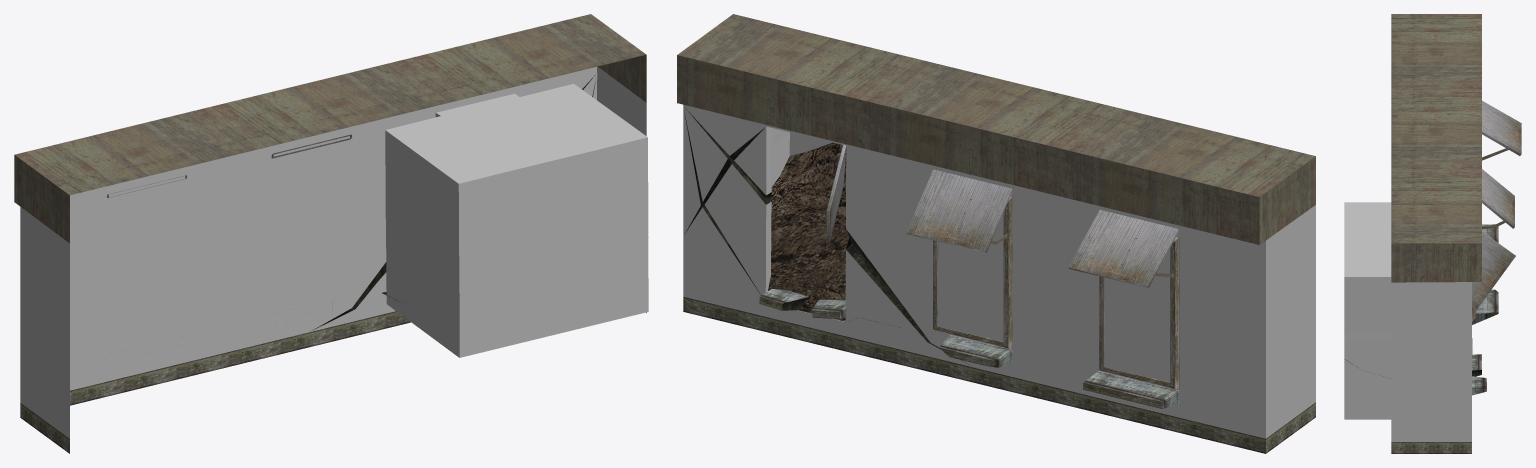
The model's file is Store_front_5_D.fbx.
The picture shows the model from 3 angles, left to right: view 1: azimuth 30°, elevation 25°; view 2: azimuth 150°, elevation 25°; view 3: azimuth 270°, elevation 25°; orthographic projection. The views are drawn at different scales.
Visible parts, largest first — view 1: Store_front_5_D; view 2: Store_front_5_D; view 3: Store_front_5_D.
Boxes of the visible parts, x1,y1,x2,y2 form: Store_front_5_D: (14, 14, 648, 453); Store_front_5_D: (677, 14, 1315, 453); Store_front_5_D: (1344, 14, 1521, 453).
Size of the model in its own units: 700 by 300 by 229.
